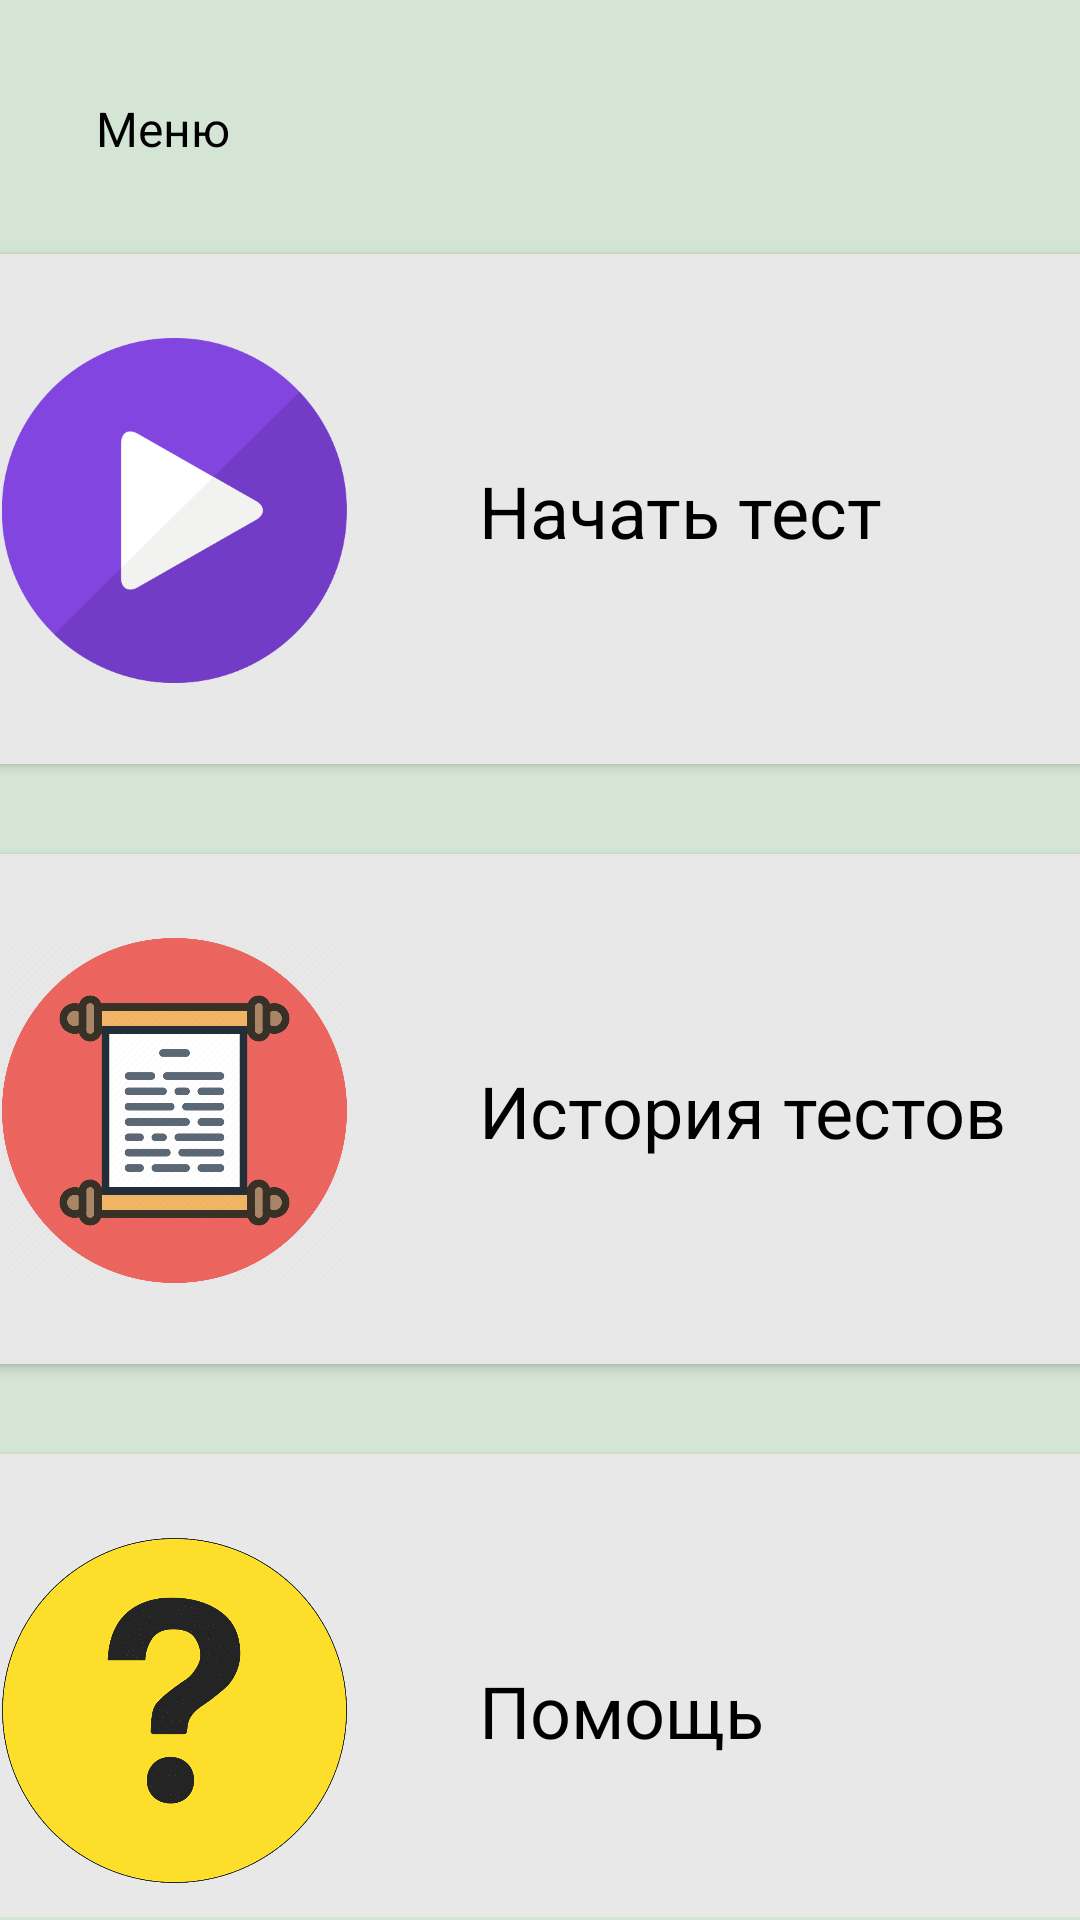

Screen size 1080px x 1920px. Icon name, then its box in pixels as (x1, y1, x2, y2):
aboutt: (2, 1538, 347, 1883)
start: (2, 338, 347, 683)
